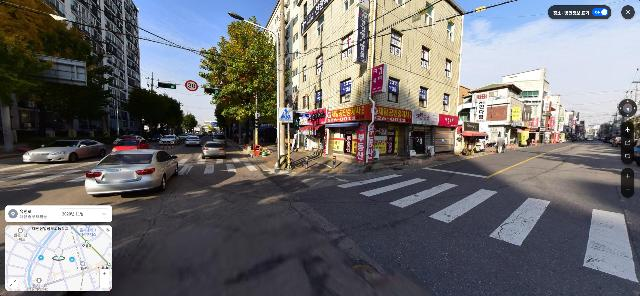other: (0, 0, 115, 150), (198, 16, 278, 149), (128, 88, 183, 136)
